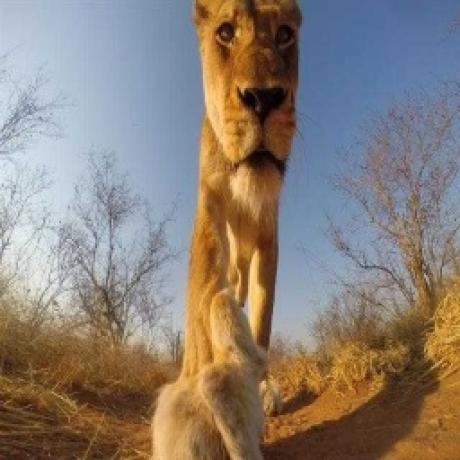Lion: (148, 0, 306, 460)
